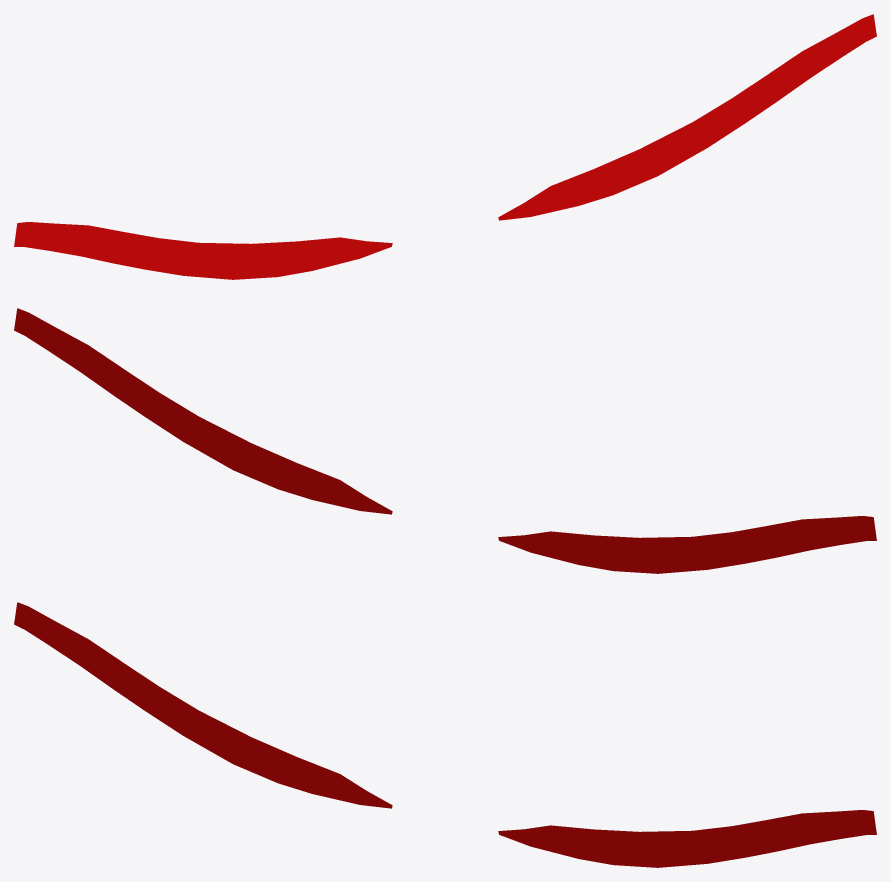
The model's file is frame123.fbx.
3 views of the same model, one above another, from view 1: azimuth 30°, elevation 25°; view 2: azimuth 150°, elevation 25°; view 3: azimuth 330°, elevation 25° (orthographic).
Visible parts, largest first — view 1: MaterialLayer; view 2: MaterialLayer; view 3: MaterialLayer.
Boxes of the visible parts, x1,y1,x2,y2 form: MaterialLayer: (14, 14, 876, 279); MaterialLayer: (14, 308, 876, 573); MaterialLayer: (14, 602, 876, 867).
Bounding box in the file's own units: 1414 × 188 × 0.
